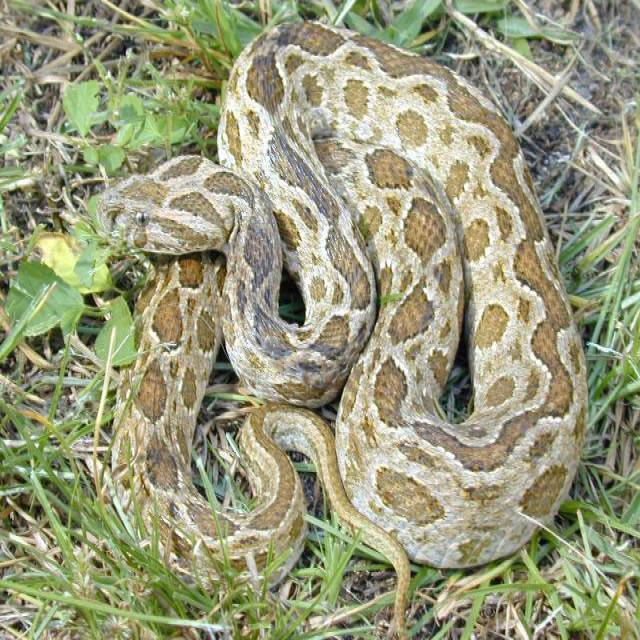Snake: (87, 17, 588, 636)
